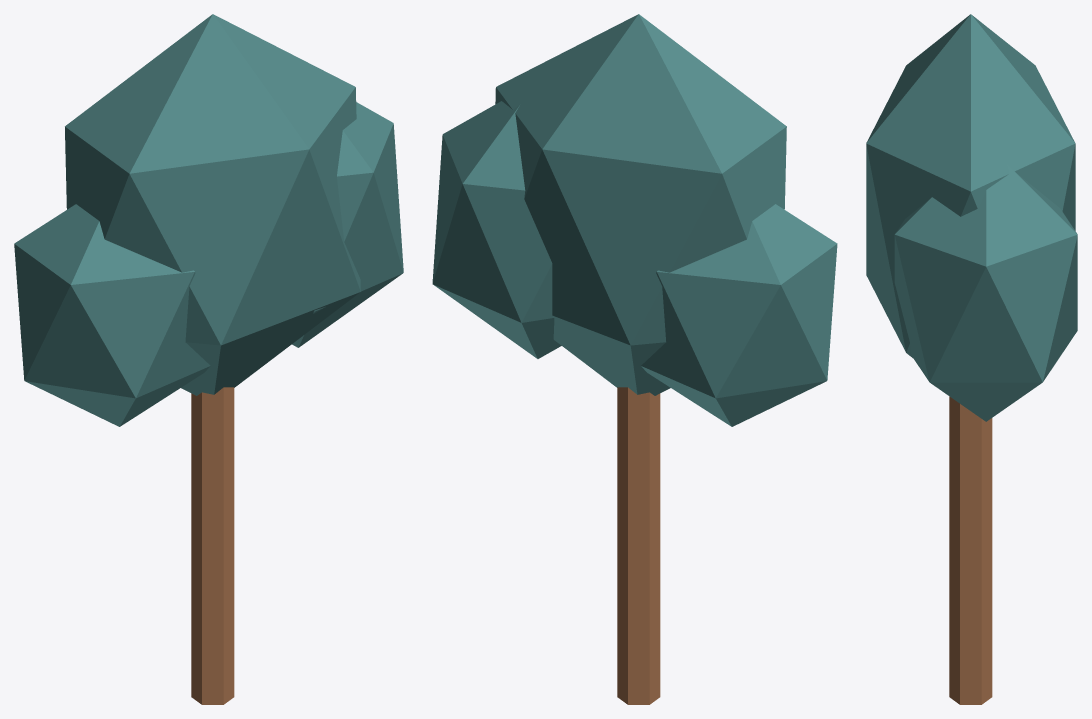
File: hsc3_tree.glb
3 views of the same model, side by side, from view 1: azimuth 30°, elevation 25°; view 2: azimuth 150°, elevation 25°; view 3: azimuth 270°, elevation 25° (orthographic).
Parts seen in each view (by area): view 1: hsc3_tree__hsc3-deep-teal, hsc3_tree__hsc3-roasted-copper; view 2: hsc3_tree__hsc3-deep-teal, hsc3_tree__hsc3-roasted-copper; view 3: hsc3_tree__hsc3-deep-teal, hsc3_tree__hsc3-roasted-copper.
Part boxes in pixels (x1,y1,x2,y2): hsc3_tree__hsc3-deep-teal: [14, 14, 403, 426]; hsc3_tree__hsc3-roasted-copper: [191, 387, 234, 704]; hsc3_tree__hsc3-deep-teal: [432, 14, 837, 426]; hsc3_tree__hsc3-roasted-copper: [617, 387, 660, 704]; hsc3_tree__hsc3-deep-teal: [866, 14, 1077, 421]; hsc3_tree__hsc3-roasted-copper: [949, 396, 992, 704].
Bounding box in the file's own units: 2.83 × 4.9 × 1.38.
